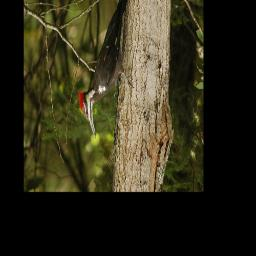Woodpecker: (77, 0, 136, 139)
